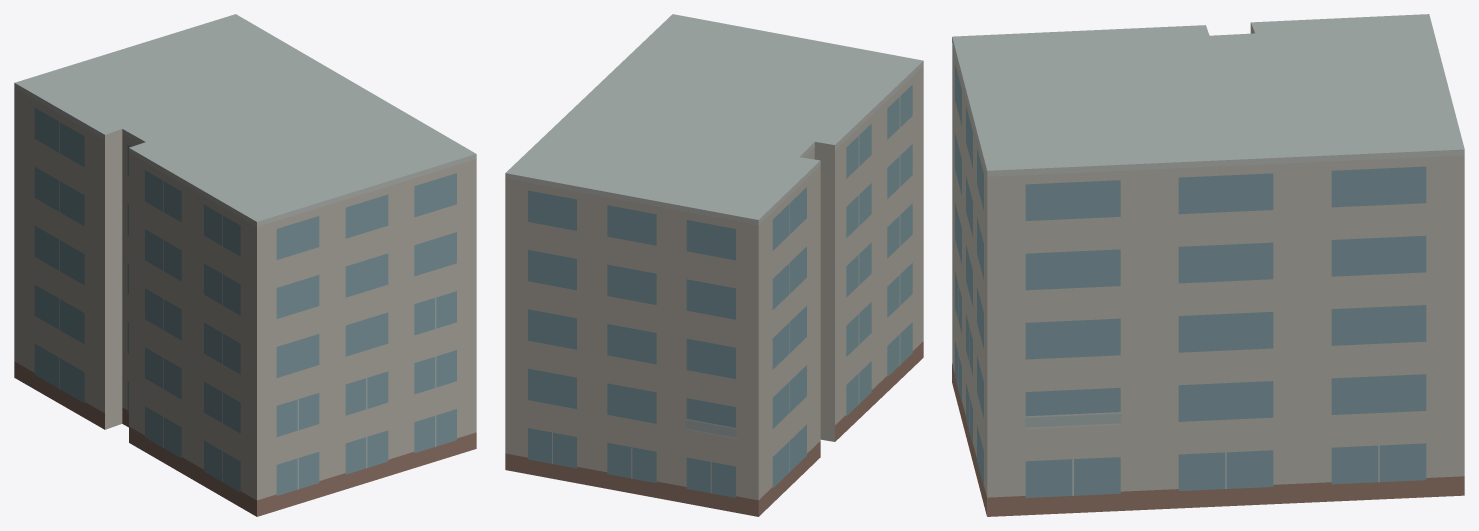
The model's file is survey-upis-32885118.glb.
3 renders of one model, left to right at view 1: azimuth 30°, elevation 25°; view 2: azimuth 150°, elevation 25°; view 3: azimuth 270°, elevation 25°, orthographic. The views are drawn at different scales.
Parts seen in each view (by area): view 1: survey-upis-32885118.tmp; view 2: survey-upis-32885118.tmp; view 3: survey-upis-32885118.tmp.
Boxes of the visible parts, box(x1,y1,x2,y2) form: survey-upis-32885118.tmp: box(14, 14, 476, 516); survey-upis-32885118.tmp: box(505, 14, 923, 516); survey-upis-32885118.tmp: box(952, 14, 1464, 516).
Bounding box in the file's own units: 13.61 × 14 × 18.8.
